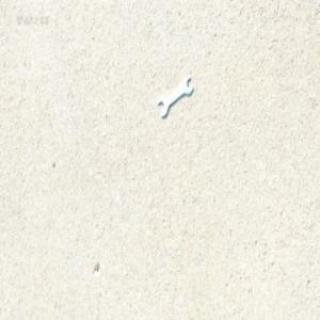Wrenchtrack_idkeyframe: (158, 76, 193, 117)
